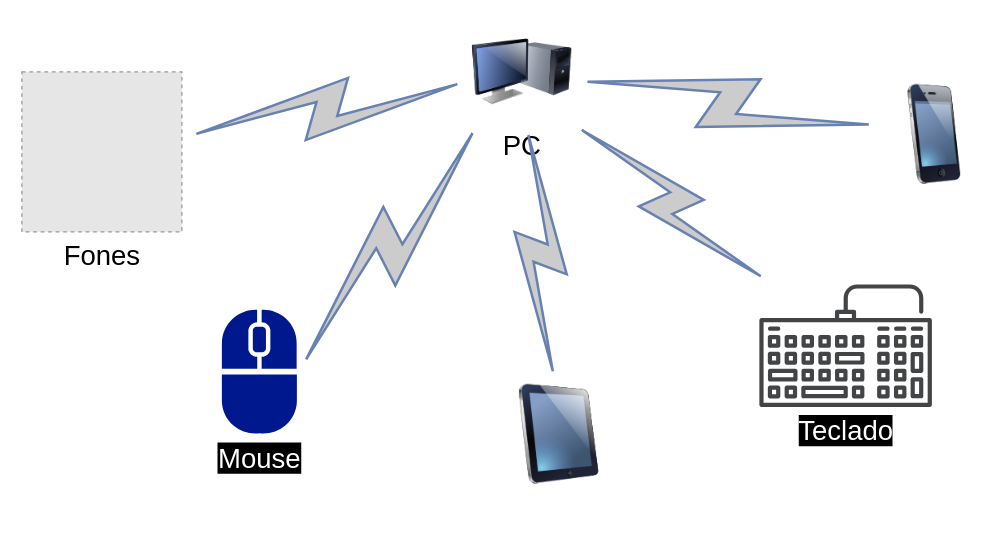
Image size: 1006x546. Some labels were removed from this diagram. Grey dashed boxes stand in for pictures. Each missing label, with the centre of its shape:
Mobile: point 934,134
Tablet: point 559,434
